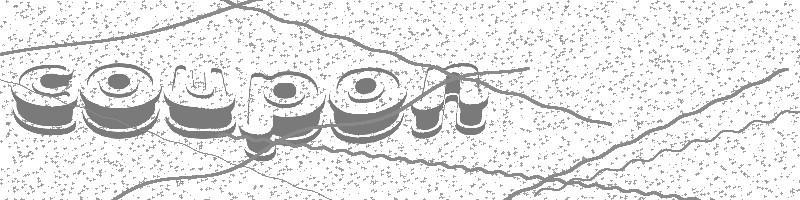c: (12, 59, 81, 135)
n: (412, 63, 490, 136)
o: (78, 59, 160, 140), (328, 66, 407, 144)
p: (243, 70, 327, 161)
u: (160, 60, 240, 141)
